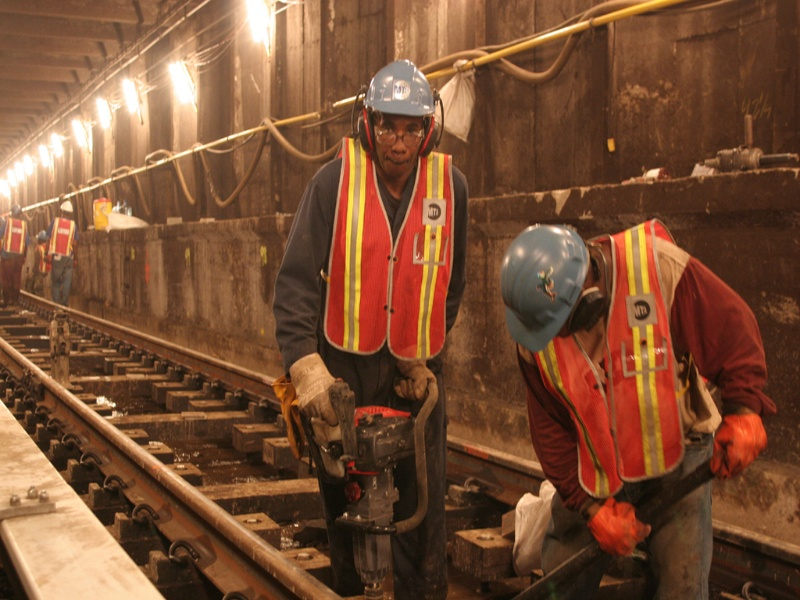helmet: (499, 223, 588, 356), (369, 60, 440, 119)
jacket: (545, 236, 697, 492), (338, 139, 453, 362)
